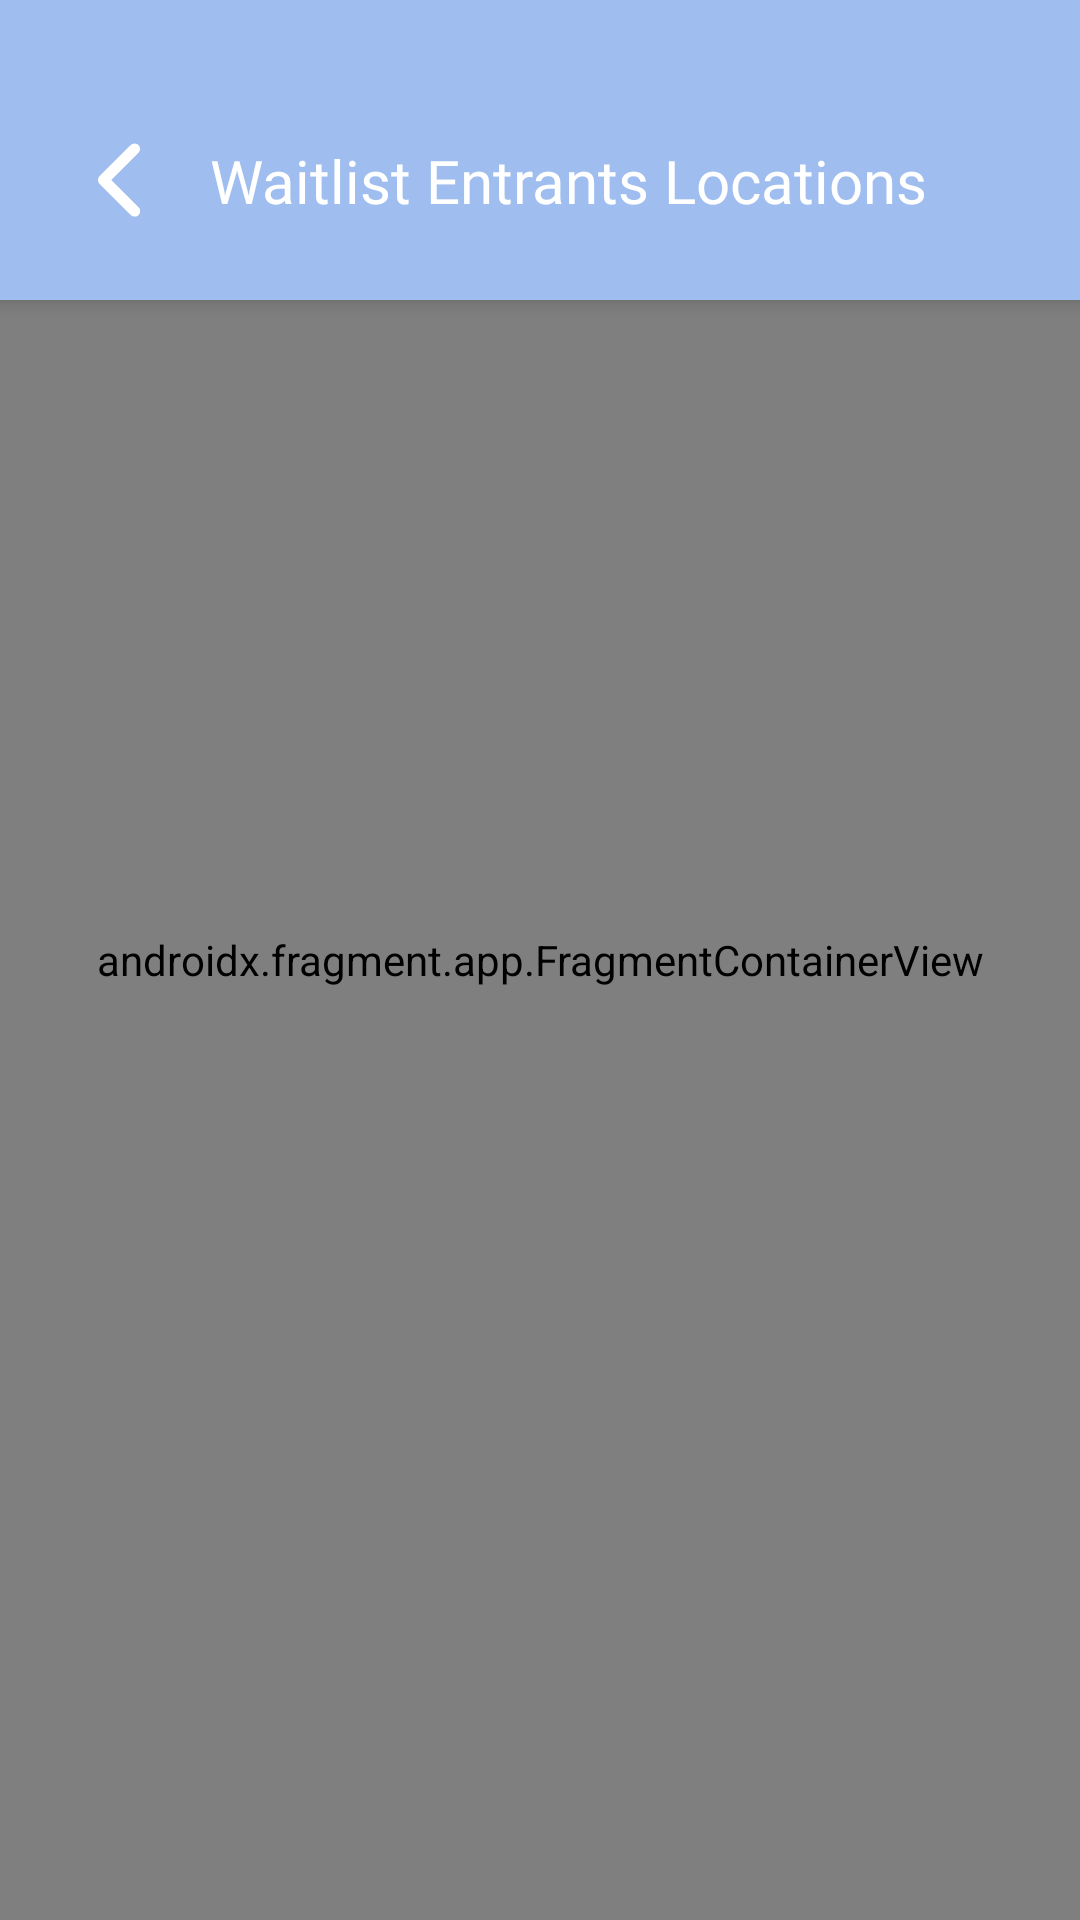

Named icons in this screenshot (1080*1920) and their bounding boxes, (x1, y1, x2, y2):
arrow back: (98, 143, 140, 217)
